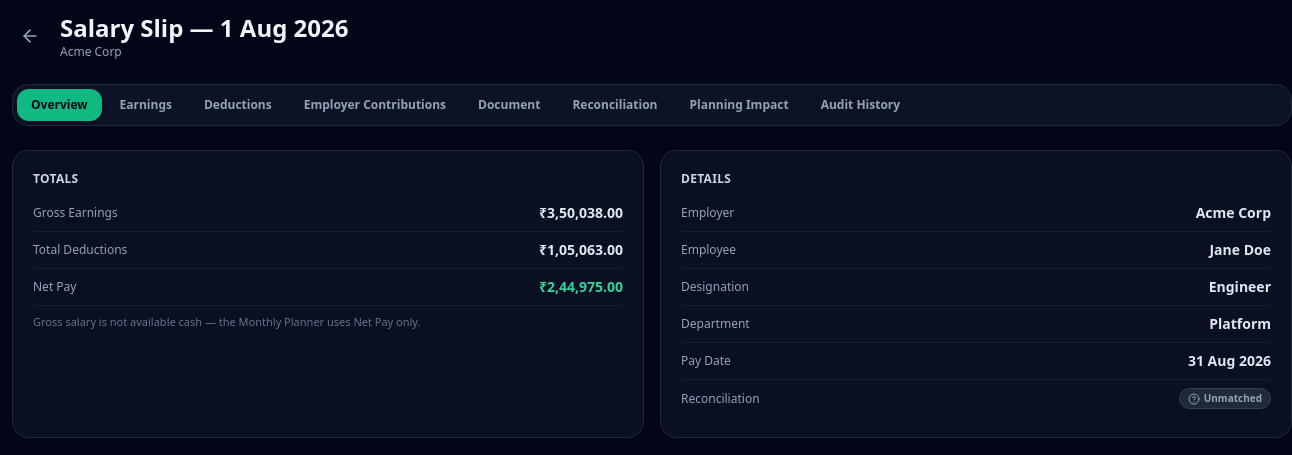
Test: SalarySlipDetail › renders Earnings, Deductions, and Employer Contributions tabs from the same fixture
The width and height of the screenshot is (1292, 455).
Click the tab "Earnings": (146,105) left=106, top=89, right=186, bottom=121
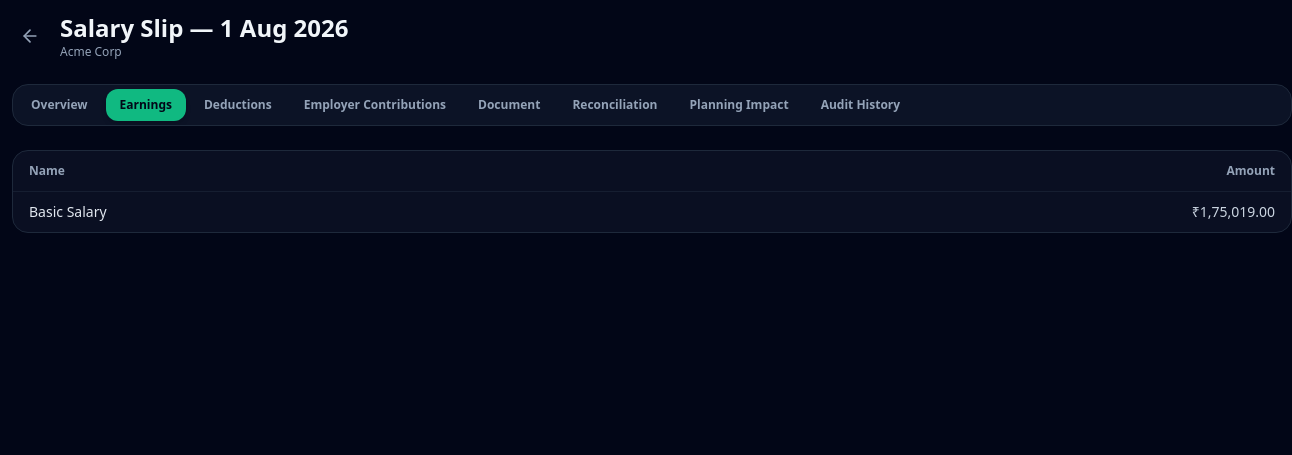
expect the text "Basic Salary" is shown: met, box left=13, top=192, right=636, bottom=232
Click the tab "Deductions": (238,105) left=190, top=89, right=286, bottom=121
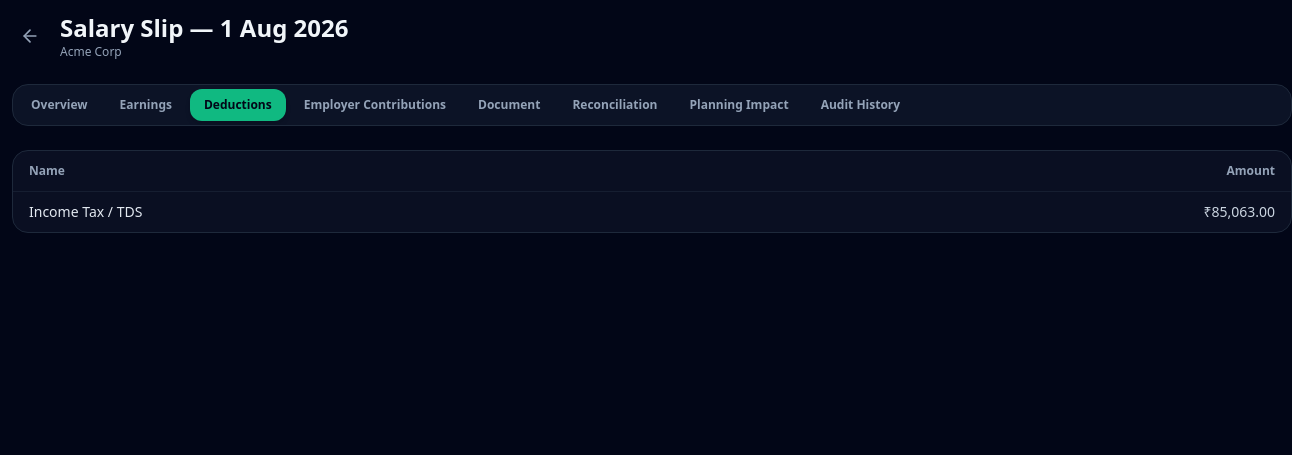
expect the text "Income Tax / TDS" is shown: met, box left=13, top=192, right=759, bottom=232
Click the tab "Employer Contributions": (375,105) left=290, top=89, right=460, bottom=121
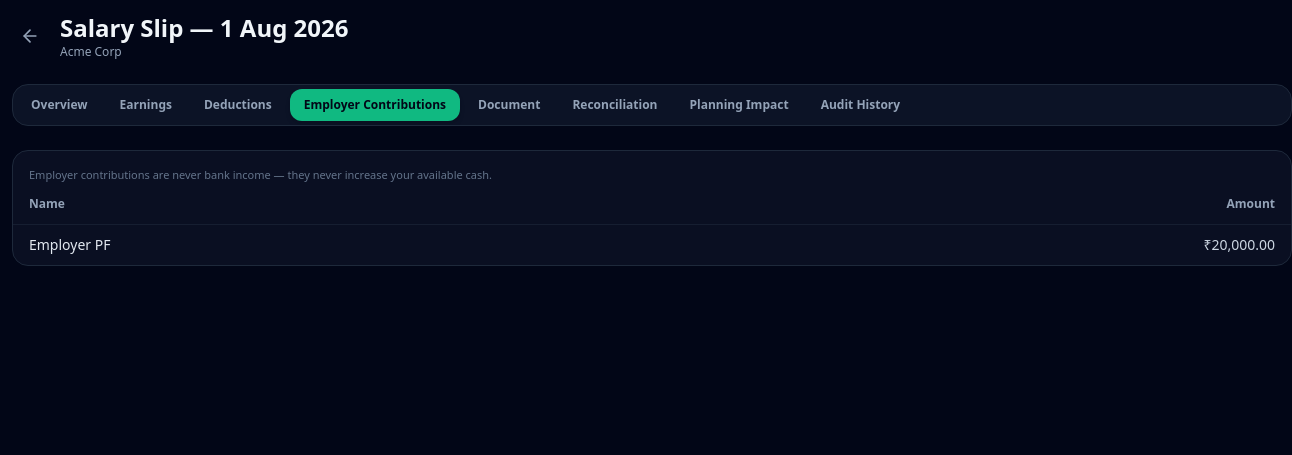
expect the text "Employer PF" is shown: met, box left=13, top=224, right=681, bottom=264
expect the text "never increase your available cash" is shown: met, box left=29, top=167, right=492, bottom=182
